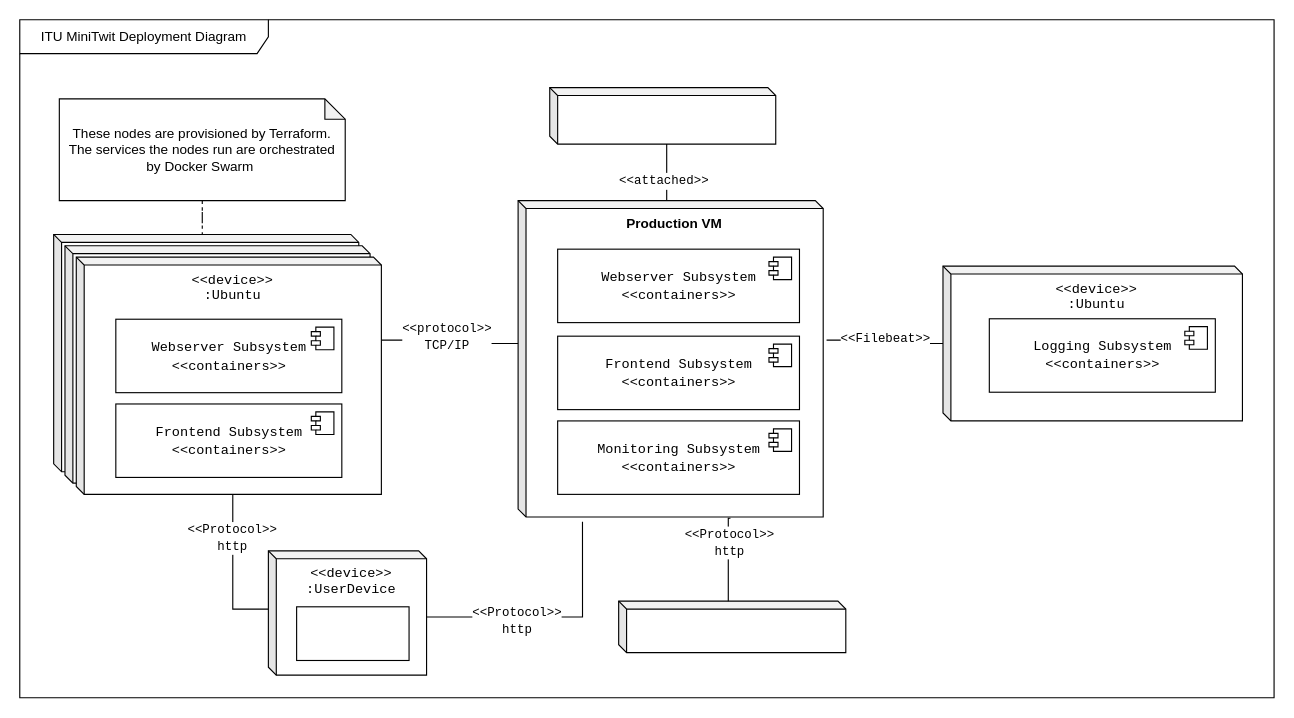
This 1294x718 diagram has some shape labels left out. Here are the shapes that lost their labels. From the top down, the centre of each, then its label:
At pixel 662 115: "<<device>> :BlockStorageVolume".
At pixel 352 633: "Browser".
At pixel 732 626: "<<device>> :Simulator".
